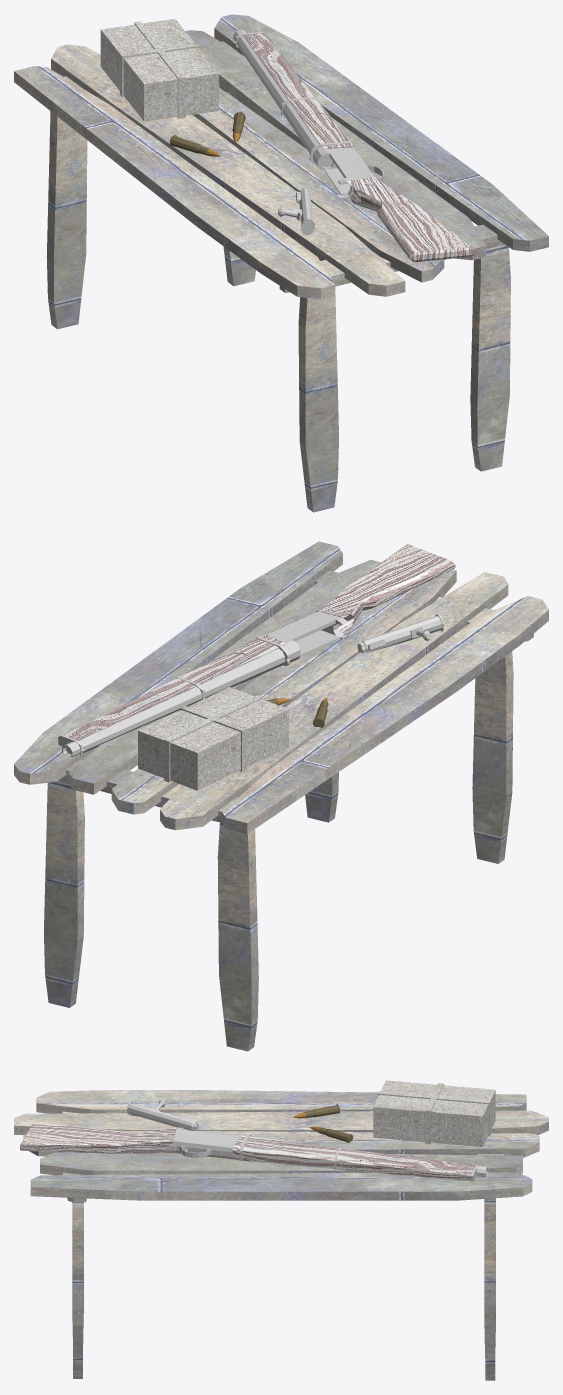
Rendered from Table2.fbx.
3 views of the same model, one above another, from view 1: azimuth 30°, elevation 25°; view 2: azimuth 150°, elevation 25°; view 3: azimuth 270°, elevation 25° (orthographic). The views are drawn at different scales.
Visible parts, largest first — view 1: Table1, Pouch1, Wood1, Receiver1, Bolt1; view 2: Table1, Pouch1, Wood1, Receiver1, Bolt1; view 3: Table1, Wood1, Pouch1, Receiver1, Bolt1, Trigger1.
Boxes of the visible parts, bbox=[...] form: Table1: bbox=[14, 14, 548, 512]; Pouch1: bbox=[100, 19, 218, 121]; Wood1: bbox=[243, 33, 473, 262]; Receiver1: bbox=[233, 29, 374, 199]; Bolt1: bbox=[277, 188, 314, 235]; Table1: bbox=[14, 541, 548, 1051]; Pouch1: bbox=[138, 687, 288, 790]; Wood1: bbox=[63, 544, 455, 740]; Receiver1: bbox=[62, 611, 348, 756]; Bolt1: bbox=[357, 614, 443, 653]; Table1: bbox=[14, 1090, 548, 1380]; Wood1: bbox=[20, 1122, 475, 1181]; Pouch1: bbox=[373, 1080, 495, 1146]; Receiver1: bbox=[173, 1127, 488, 1177]; Bolt1: bbox=[127, 1099, 198, 1130]; Trigger1: bbox=[166, 1145, 223, 1157].
Bounding box in the file's own units: 273 × 293 × 609.
9 materials, 7 textured.
